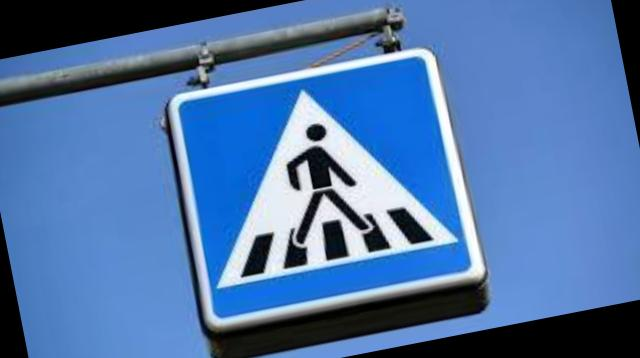crosswalk-sign: (158, 39, 497, 358)
